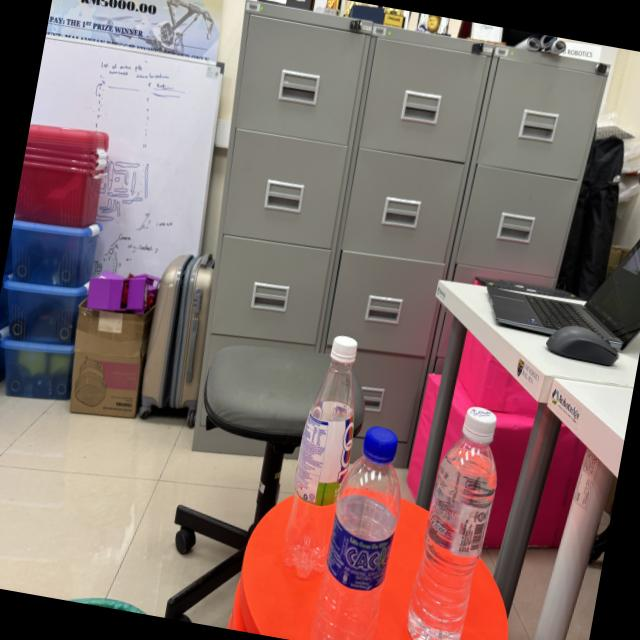plastic_bottle: (262, 296, 392, 596), (395, 389, 517, 640), (300, 410, 422, 640)
